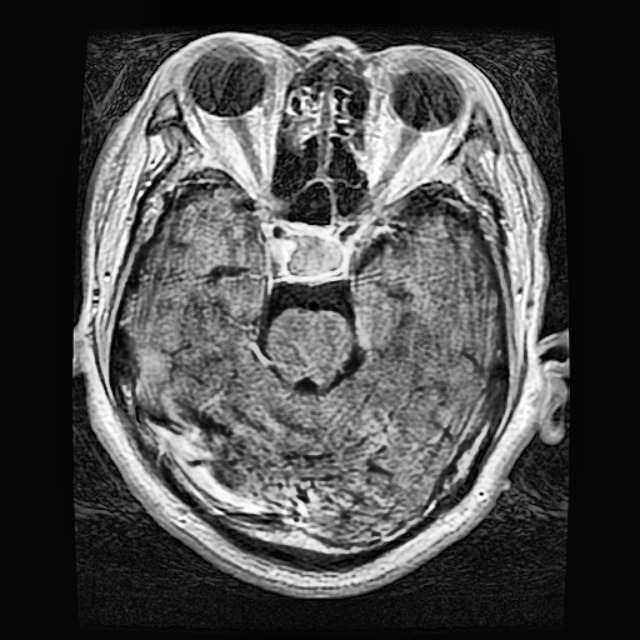Pituitary: (279, 229, 347, 282)
